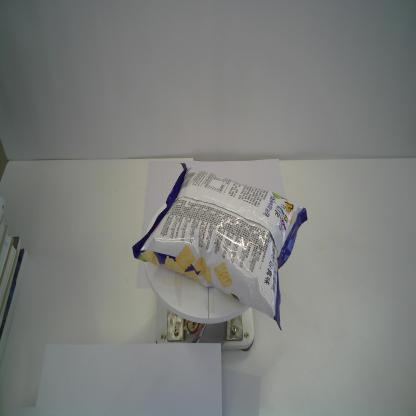Puffed Food: (131, 162, 309, 332)
